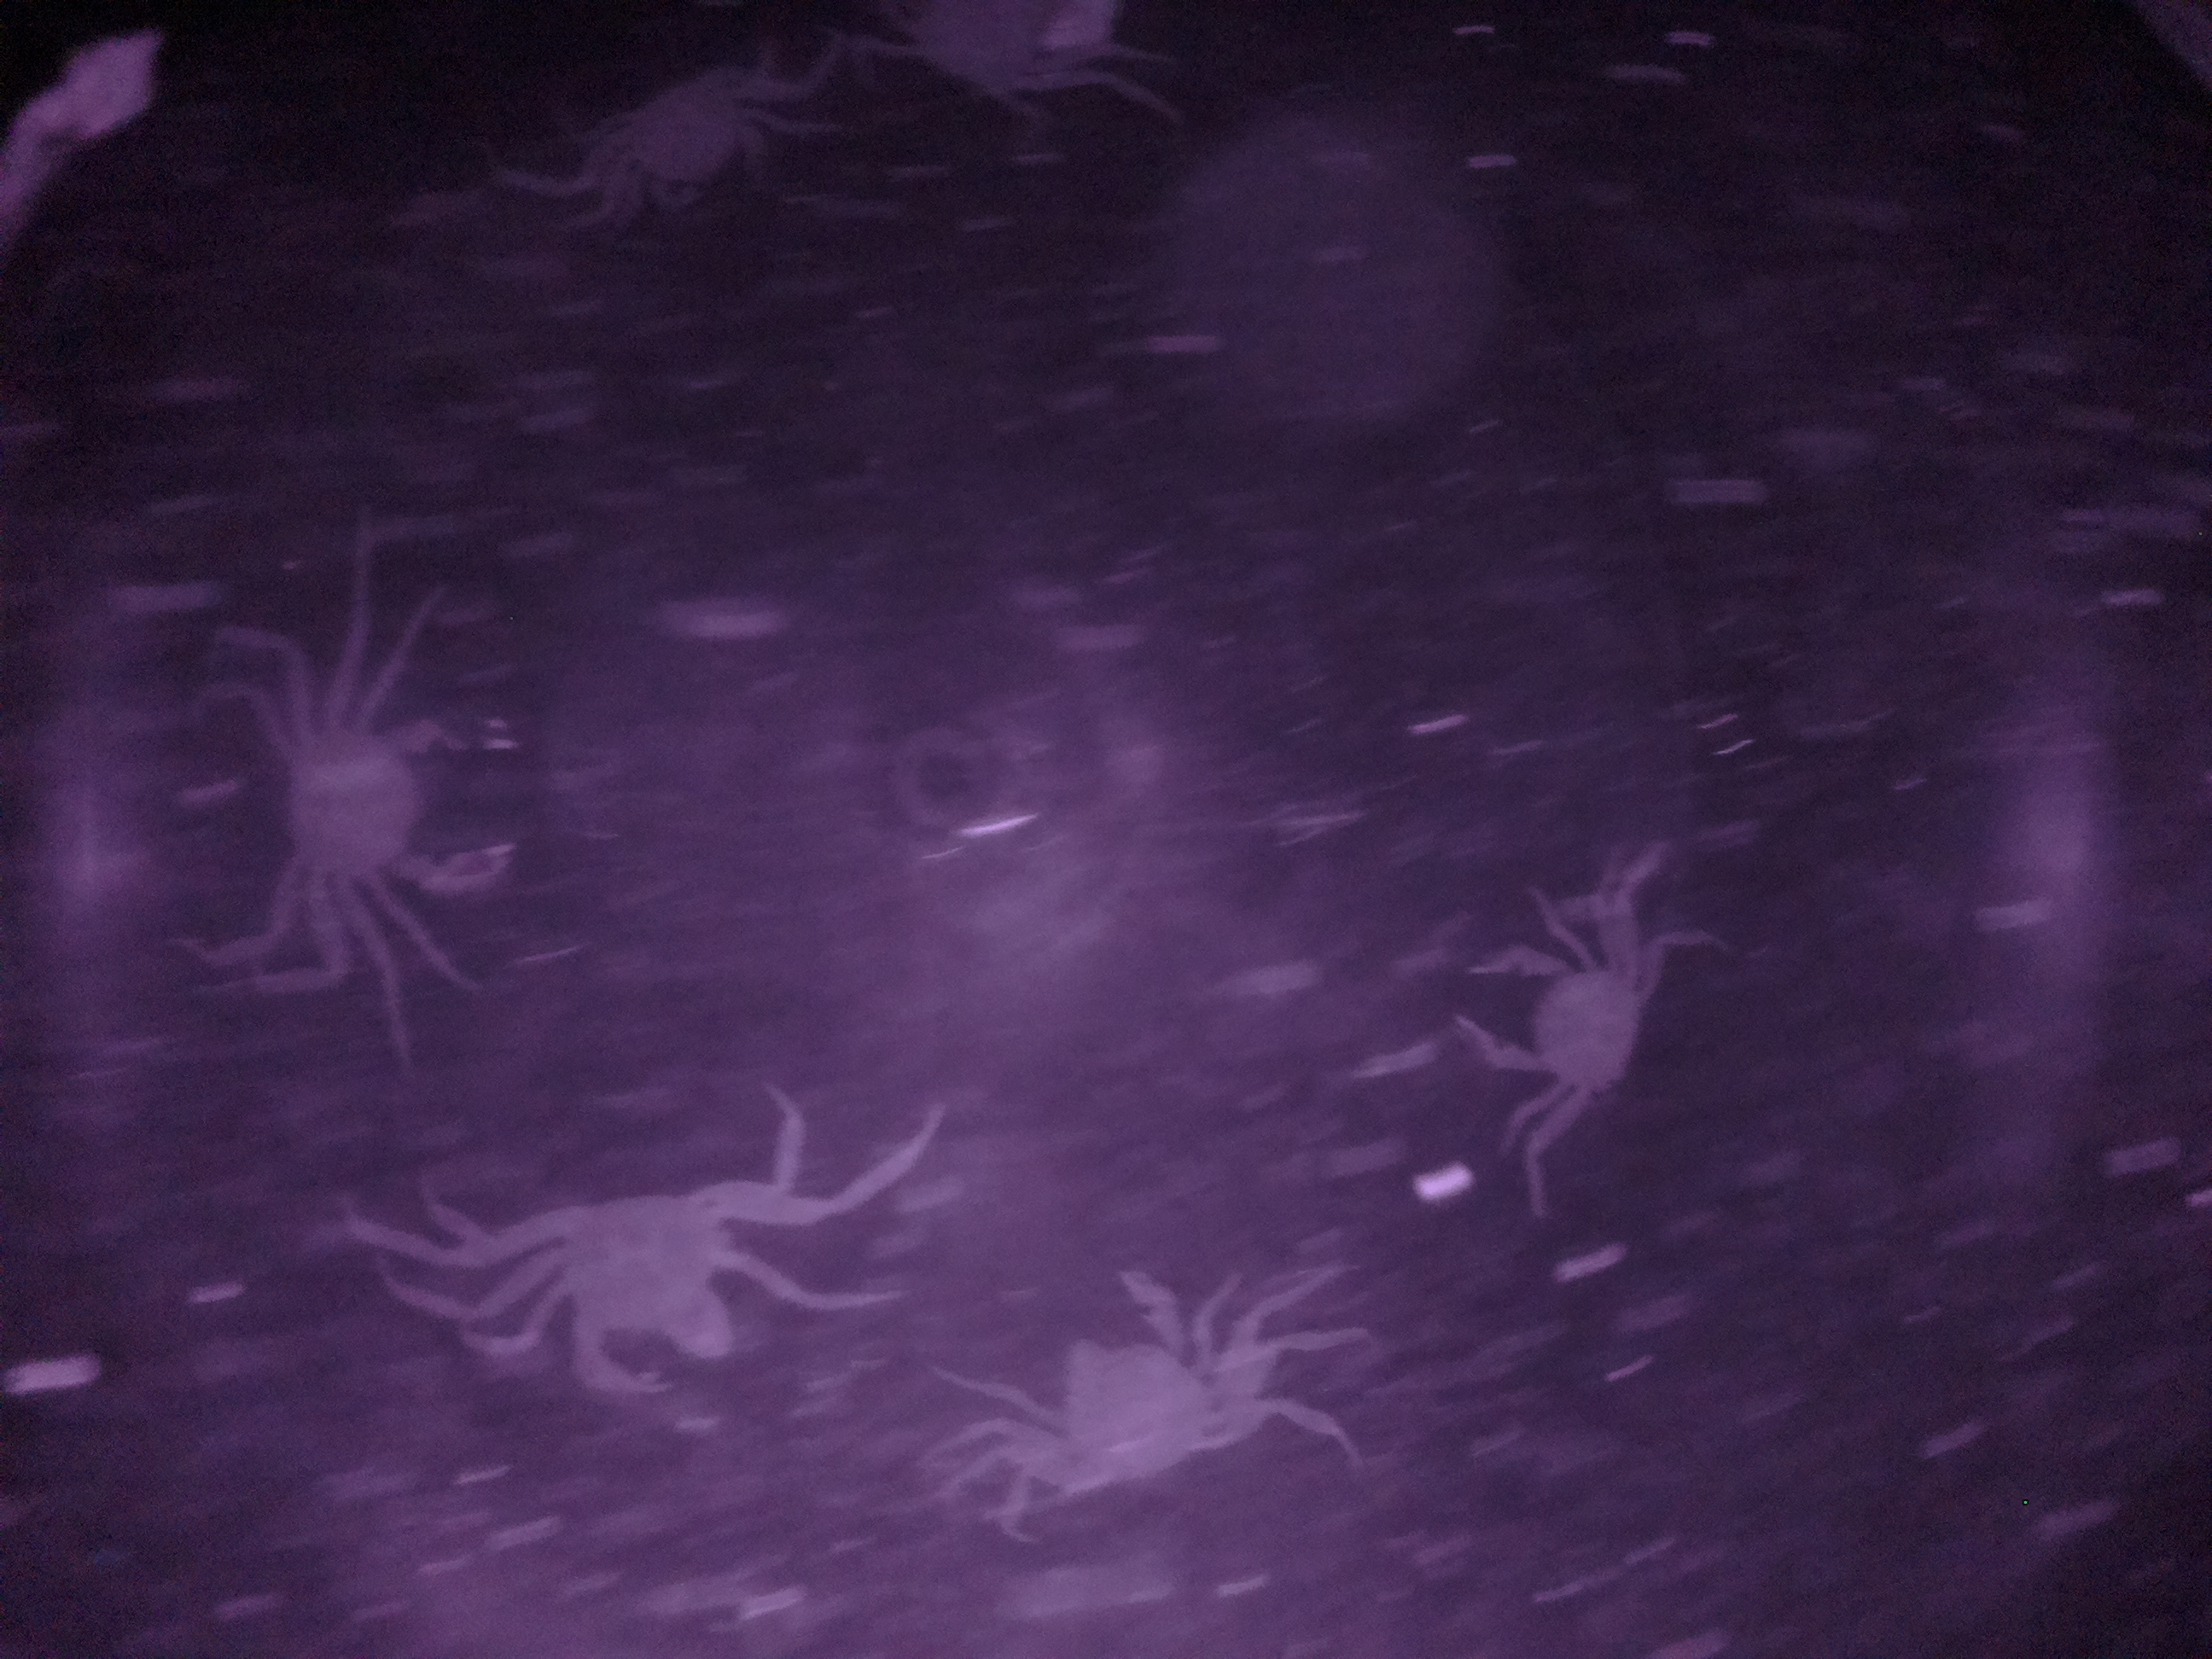Crab: (228, 692, 563, 920), (498, 1166, 759, 1427), (1425, 908, 1660, 1105), (594, 51, 787, 235)
